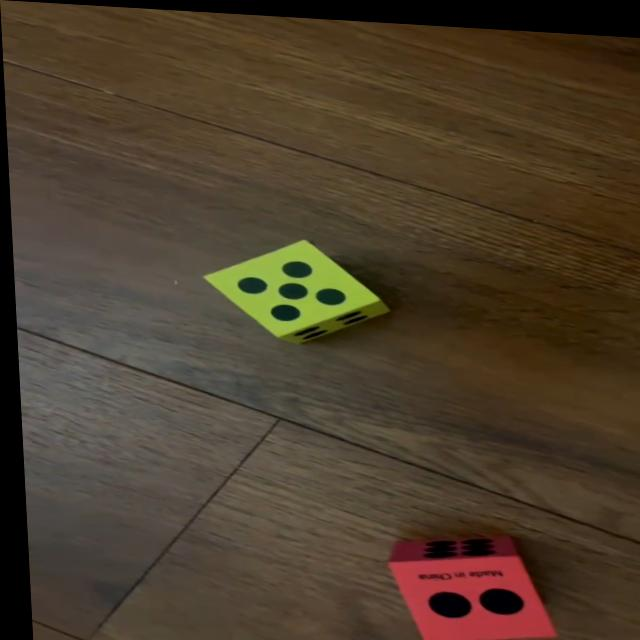cube: (380, 525, 549, 640)
